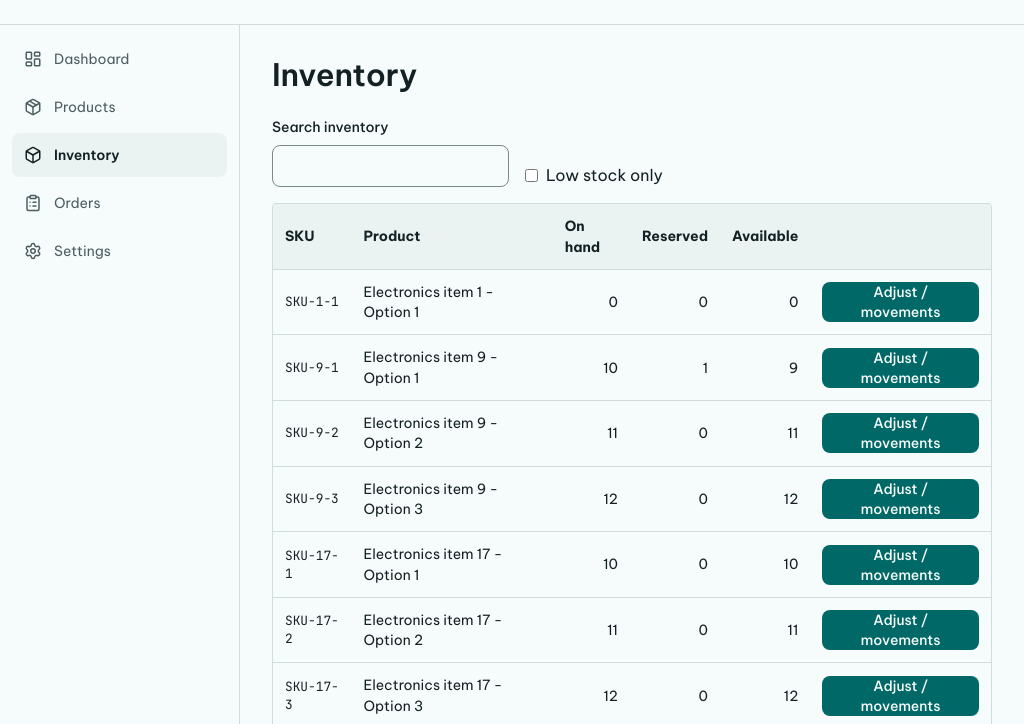
Scenario: seller routes › adjusts inventory with a reason
The width and height of the screenshot is (1024, 724).
Click the button "Adjust / movements" in the row of "SKU-1-1" at [901, 302], box [822,282,979,322]
(page scrolled)
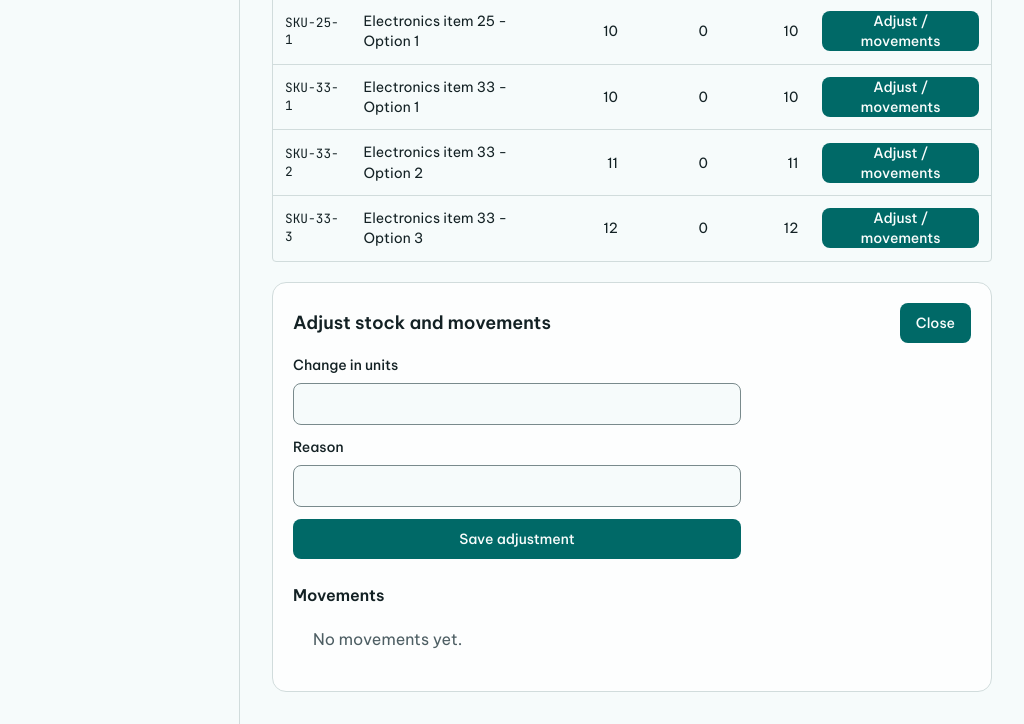
Type "2" into the number field labelled "Change in units" at [517, 404], box [293,383,741,425]
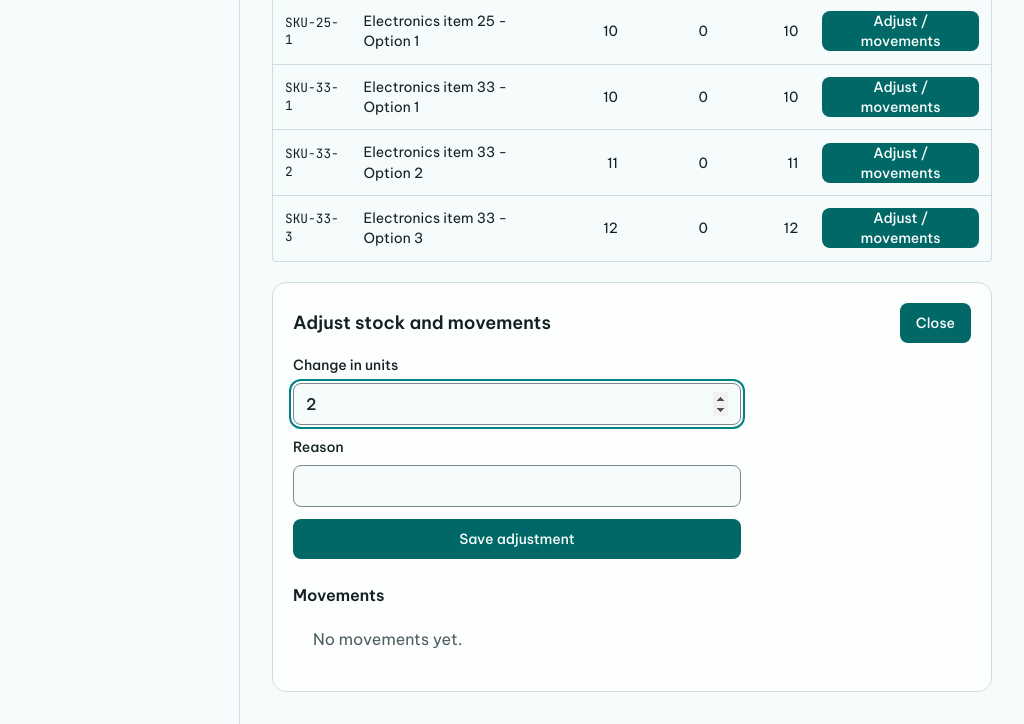
Type "Stocktake" into the field labelled "Reason" at [517, 486], box [293,465,741,507]
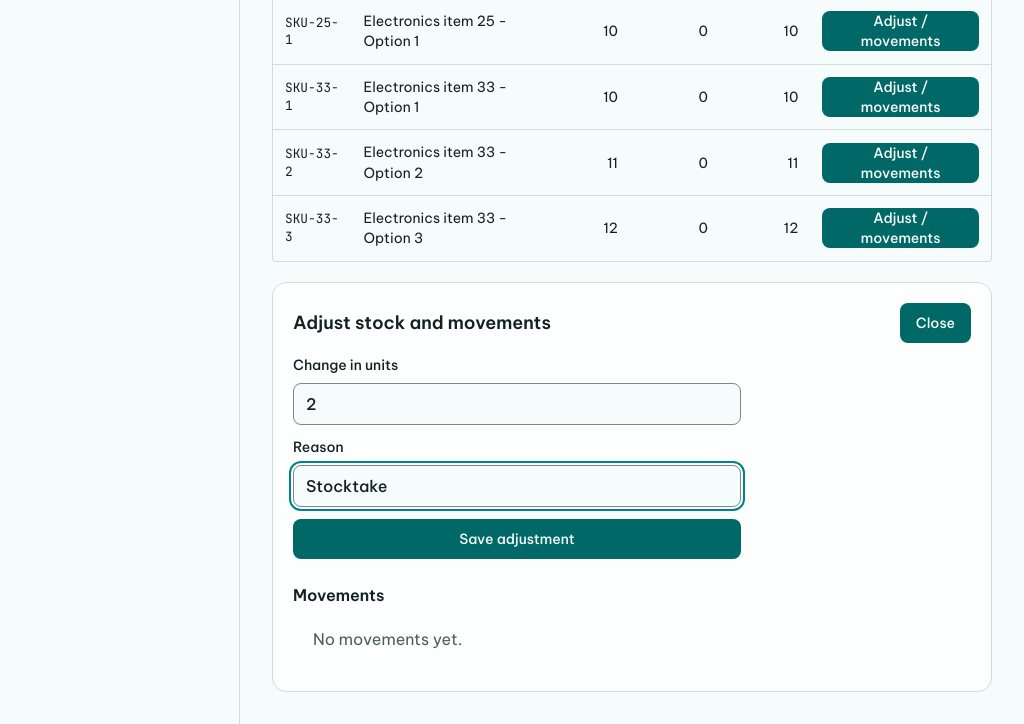
Click the button "Save adjustment" at [517, 539], box [293,519,741,559]
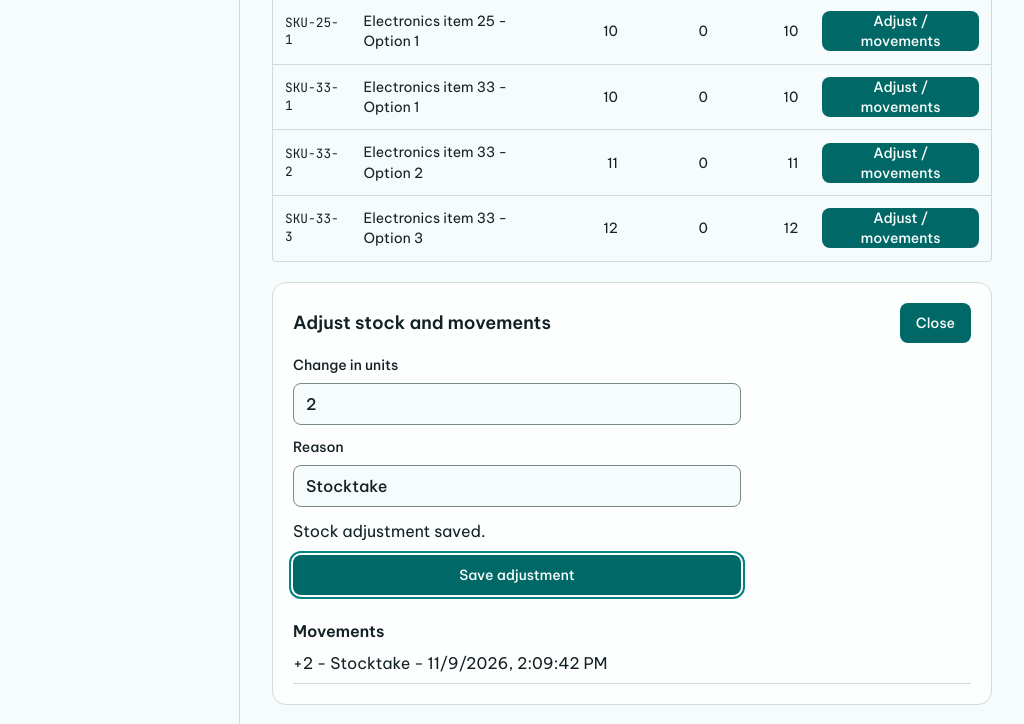
Now the text "+2 - Stocktake - 11/9/2026, 2:09:42 PM" is shown, box [293,643,971,684]
